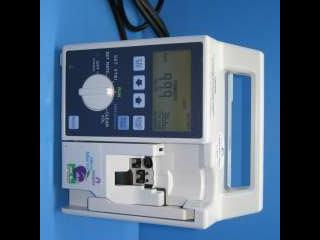plumxl1: (58, 35, 265, 228)
